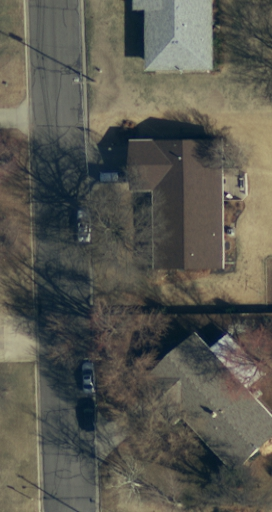DT: (68, 68, 102, 92)
